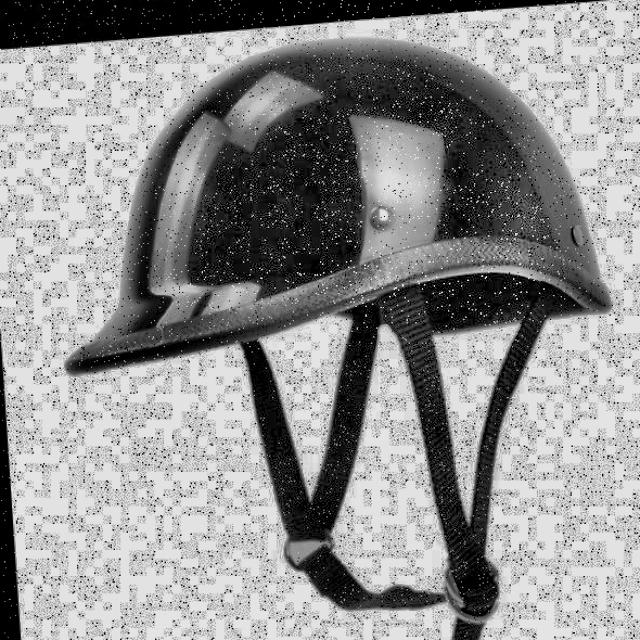Helmet: (44, 7, 637, 640)
